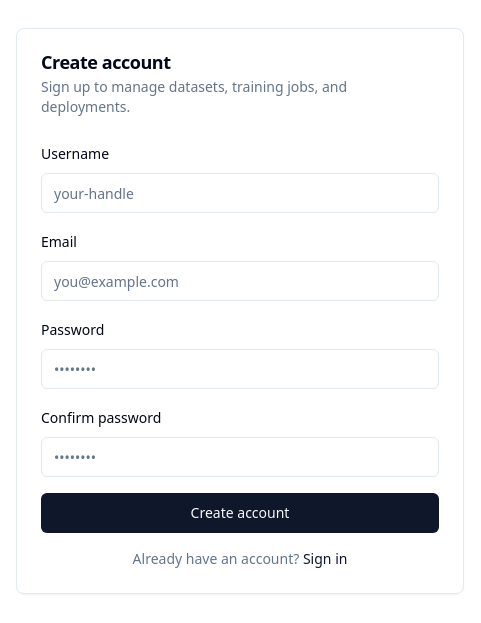
Test case: RegisterPage › rejects mismatched passwords with a confirm-password error
Type "ada" into the field labelled "Username" at (240, 193), box [41,173,439,213]
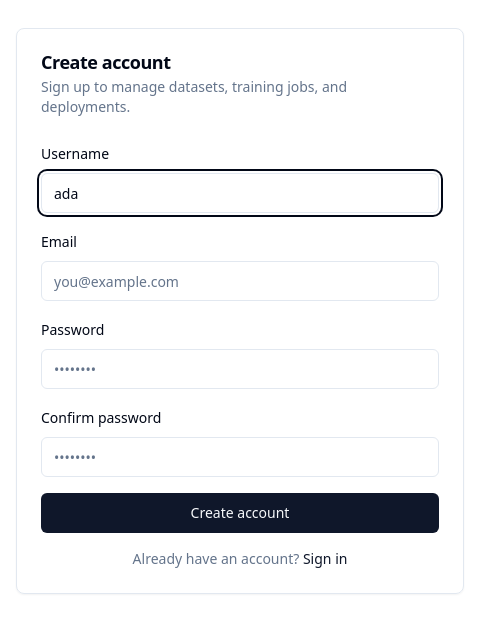
Type "ada@example.com" into the field labelled "Email" at (240, 281), box [41,261,439,301]
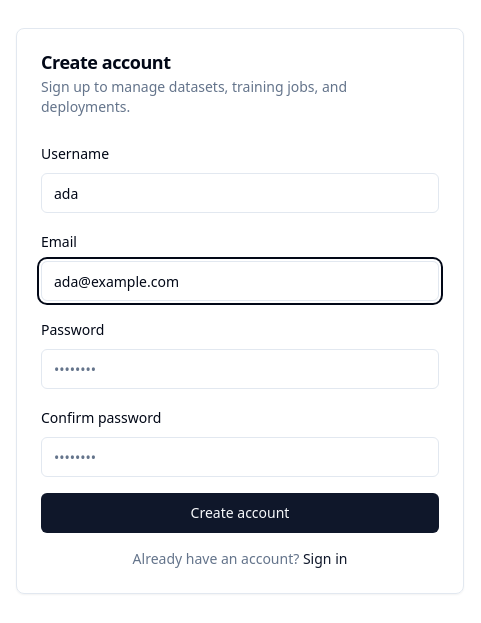
Type "password123" into the password field labelled "Password" at (240, 369), box [41,349,439,389]
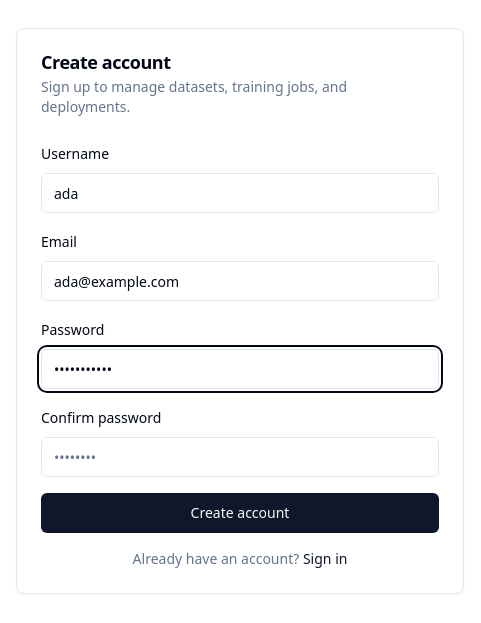
Type "different" into the password field labelled "Confirm password" at (240, 457), box [41,437,439,477]
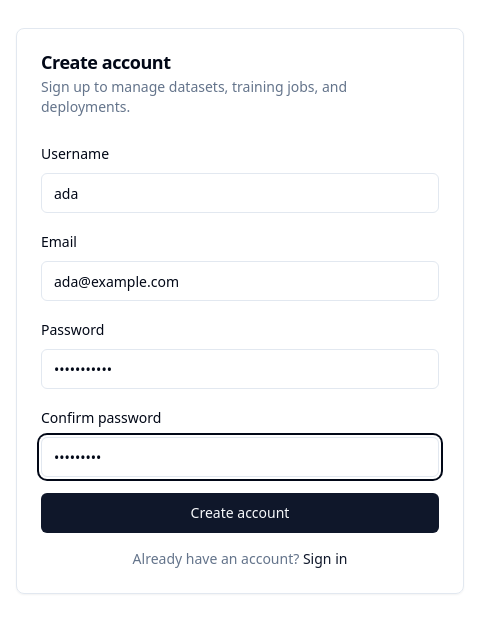
Click the button "Create account" at (240, 513), box [41,493,439,533]
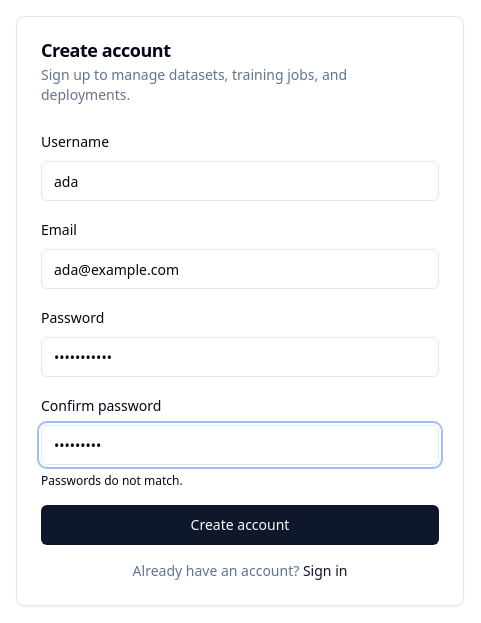
Now the text "Passwords do not match." is shown, box [41,472,183,489]
